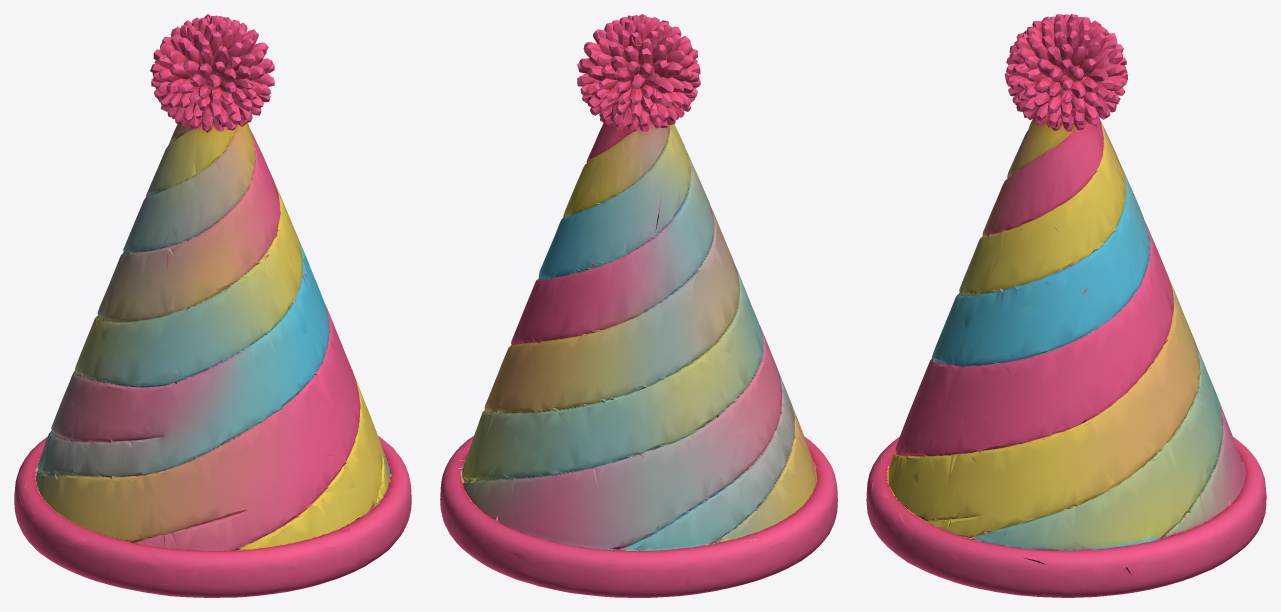
The model's file is party-cone.glb.
3 views of the same model, side by side, from view 1: azimuth 30°, elevation 25°; view 2: azimuth 150°, elevation 25°; view 3: azimuth 270°, elevation 25° (orthographic).
Parts seen in each view (by area): view 1: party-cone; view 2: party-cone; view 3: party-cone.
Part boxes in pixels (x1,y1,x2,y2): party-cone: (14,14,411,597); party-cone: (440,14,837,597); party-cone: (866,14,1266,597).
Bounding box in the file's own units: 0.2101 × 0.2901 × 0.2101.
Materials: 1 (1 with a texture image).
